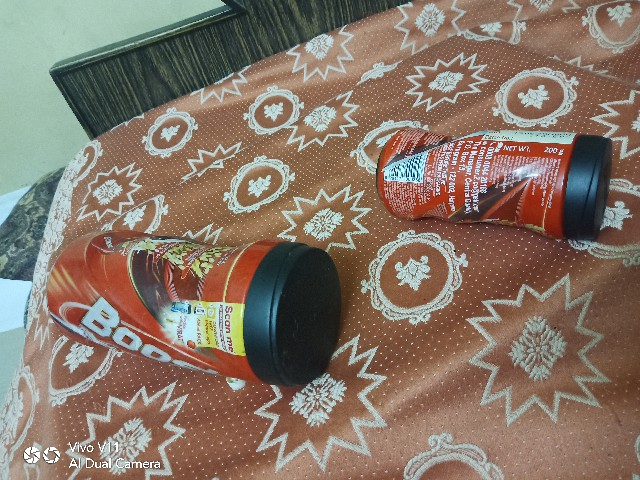boost big: (33, 221, 341, 413)
boost small: (351, 110, 619, 242)
